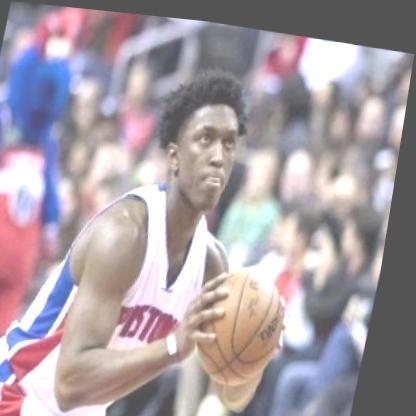basketball: (197, 253, 309, 392)
